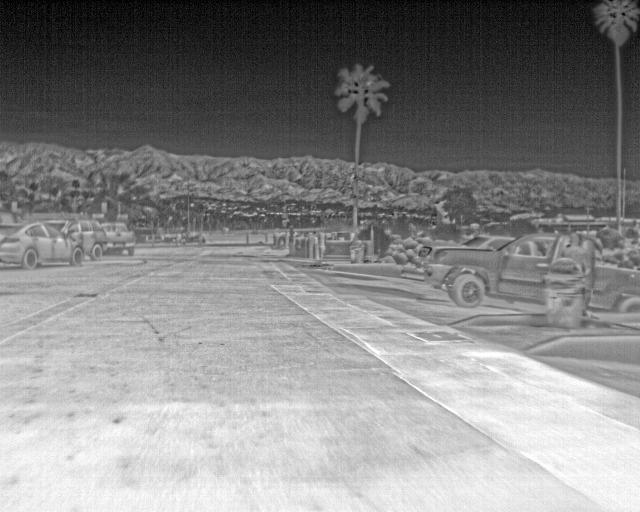bicycle: (429, 232, 555, 310), (1, 222, 85, 267), (415, 234, 514, 265), (587, 260, 639, 312), (62, 219, 105, 258), (104, 220, 136, 255)
